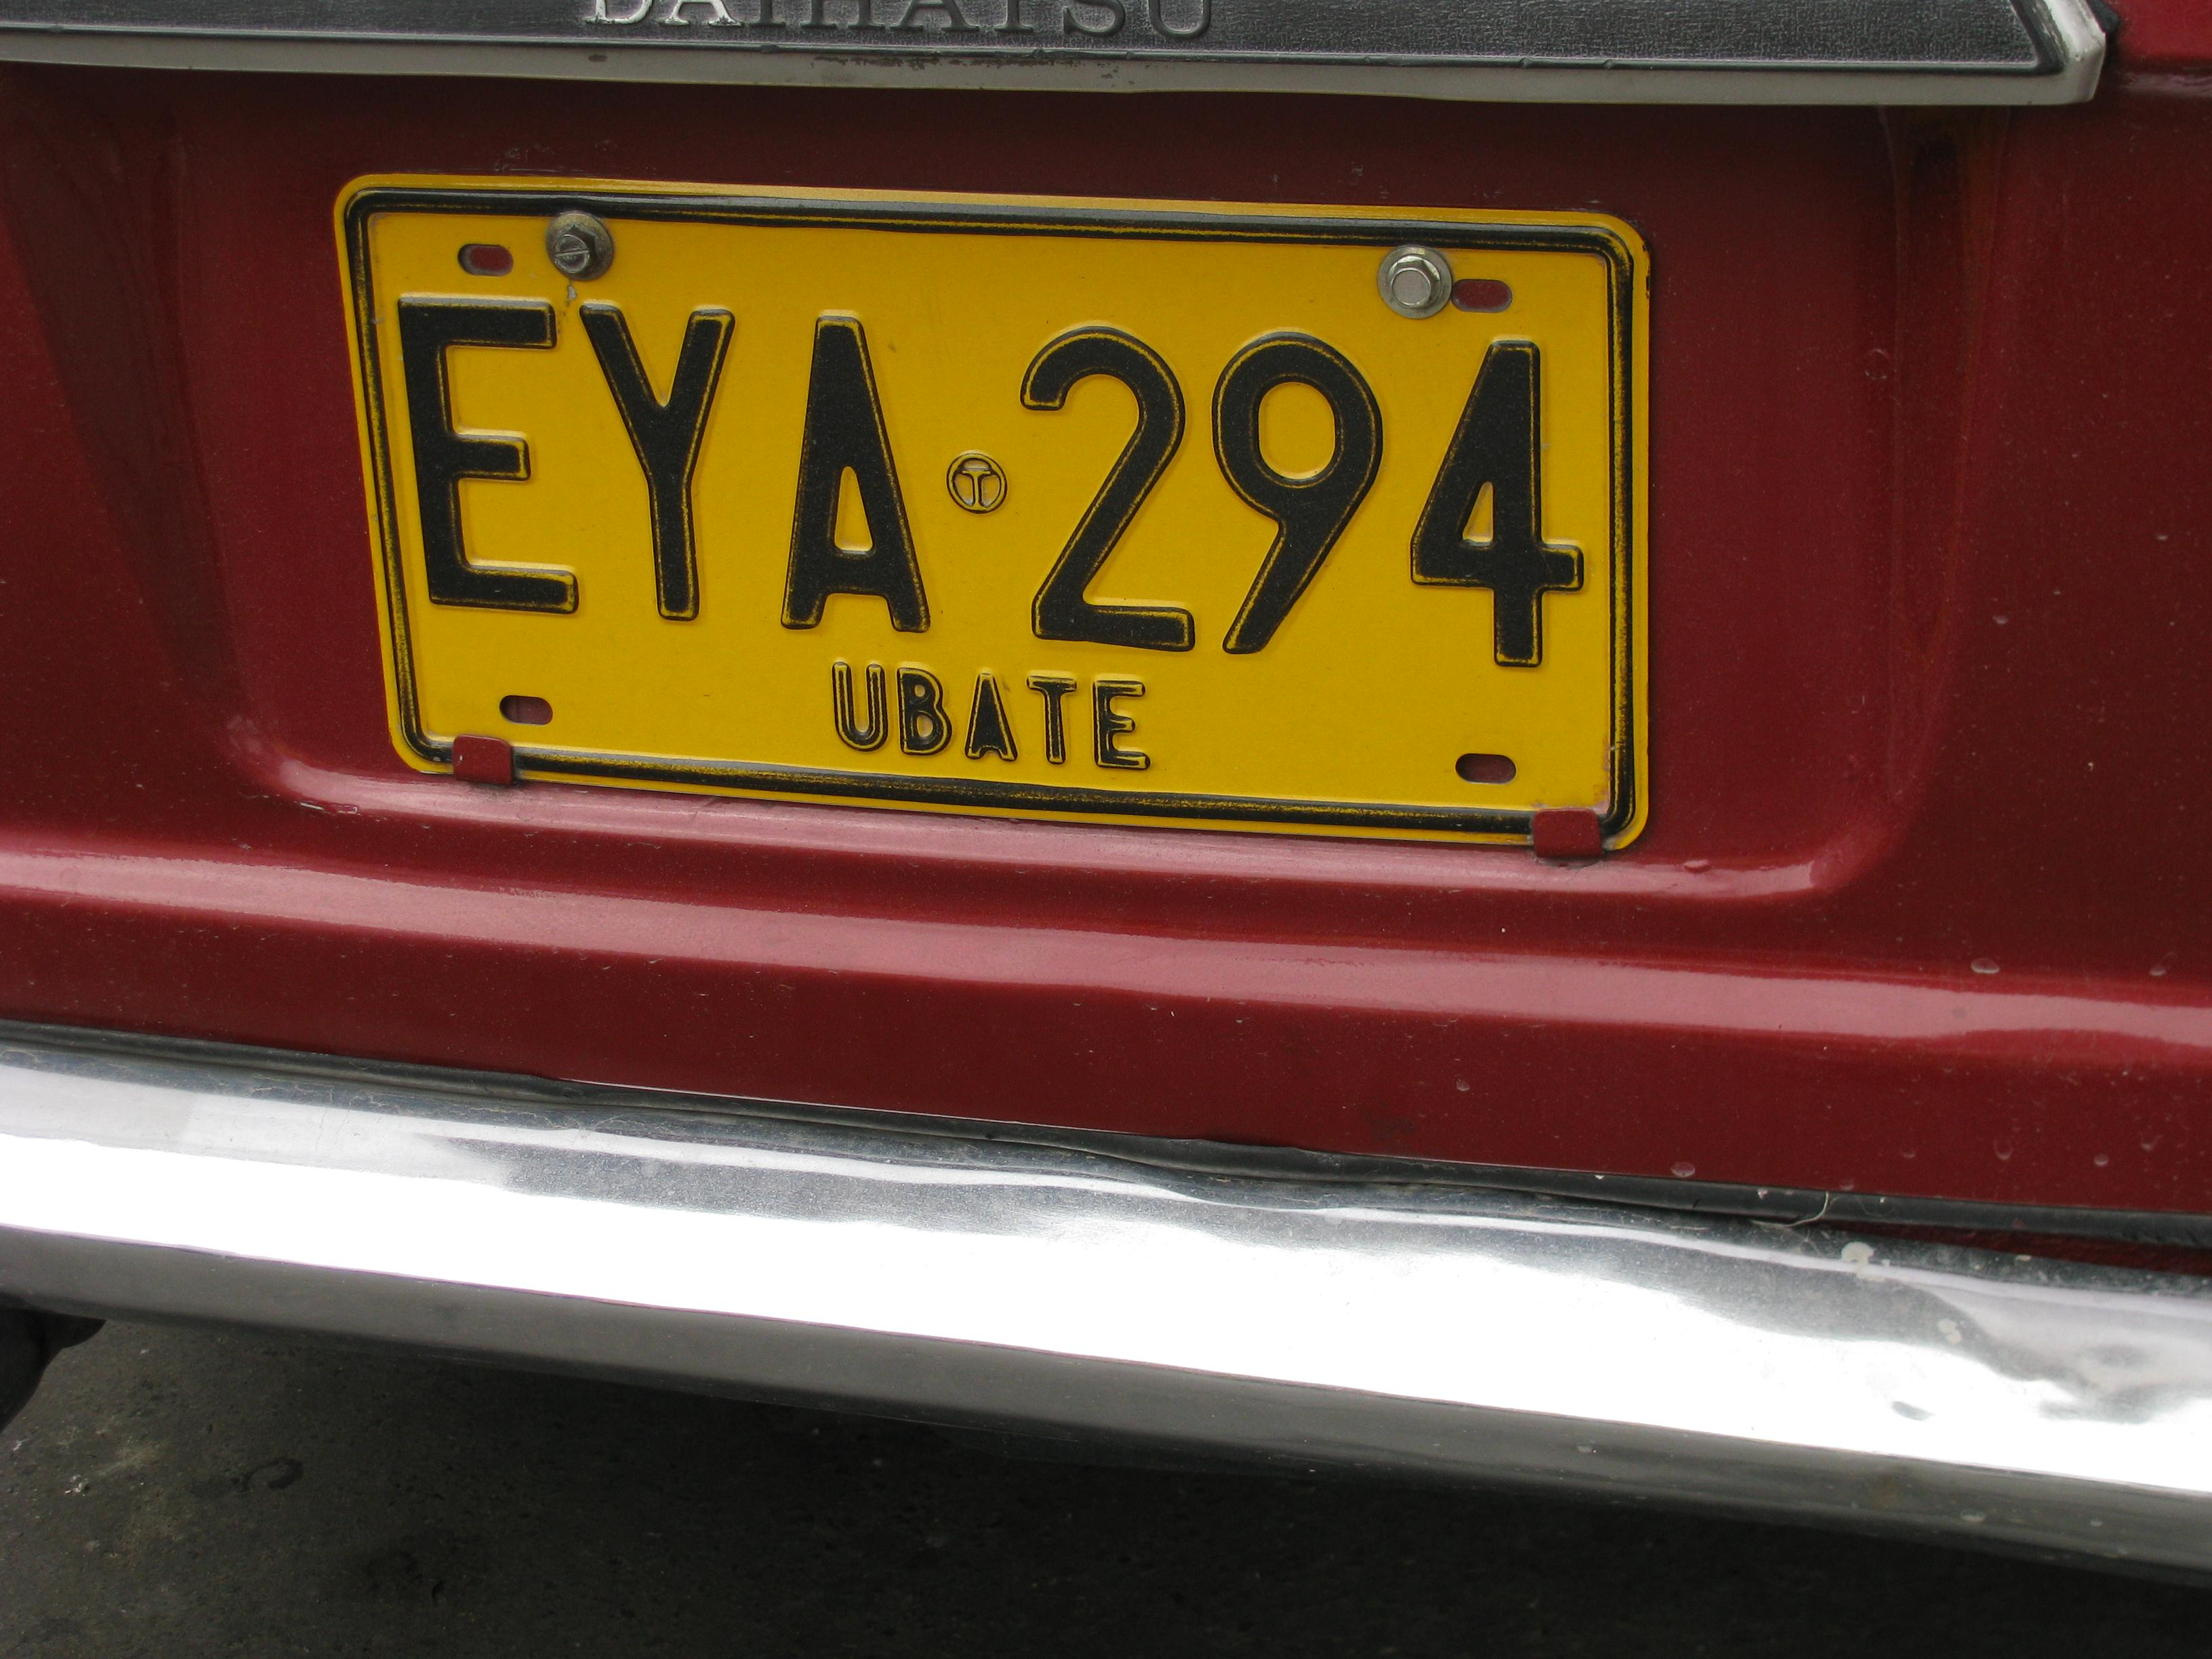placas: (310, 115, 1677, 873)
